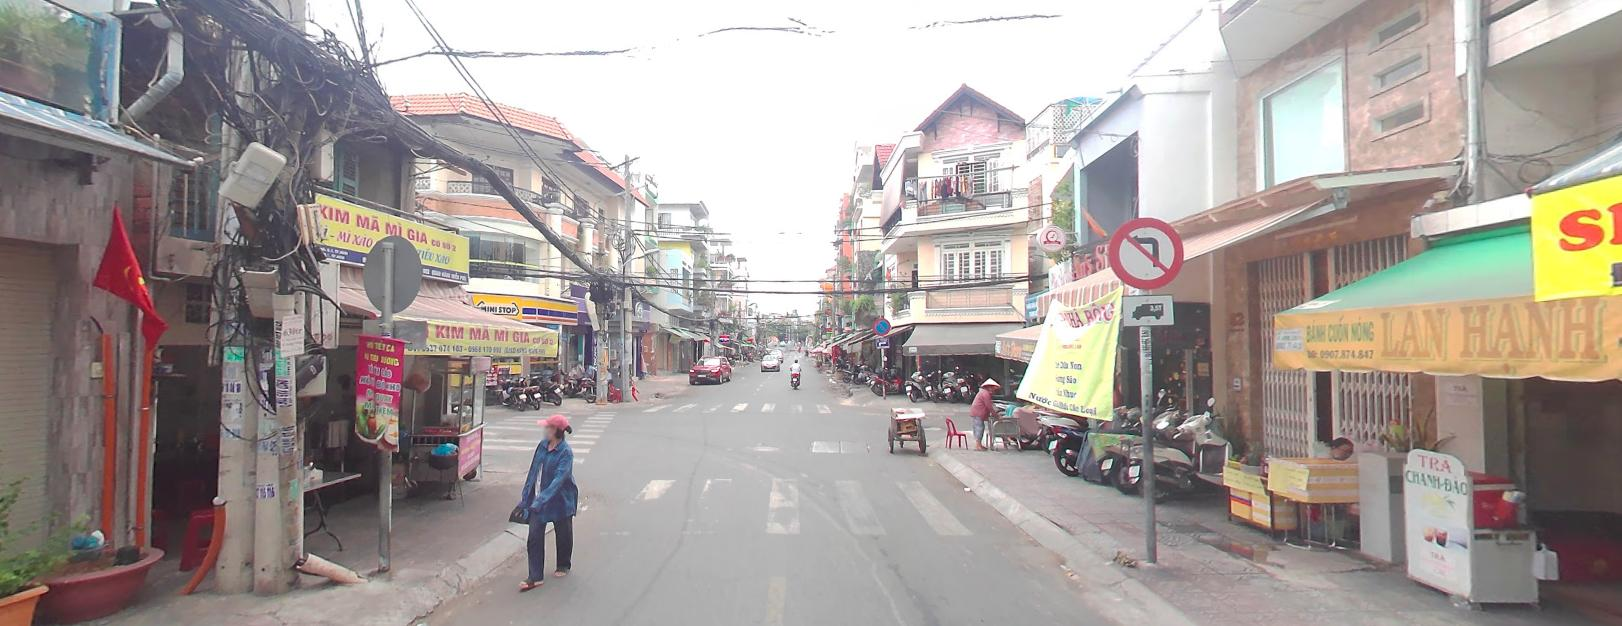Cam dung va do: (872, 316, 890, 334)
Cam re: (1108, 214, 1184, 287)
